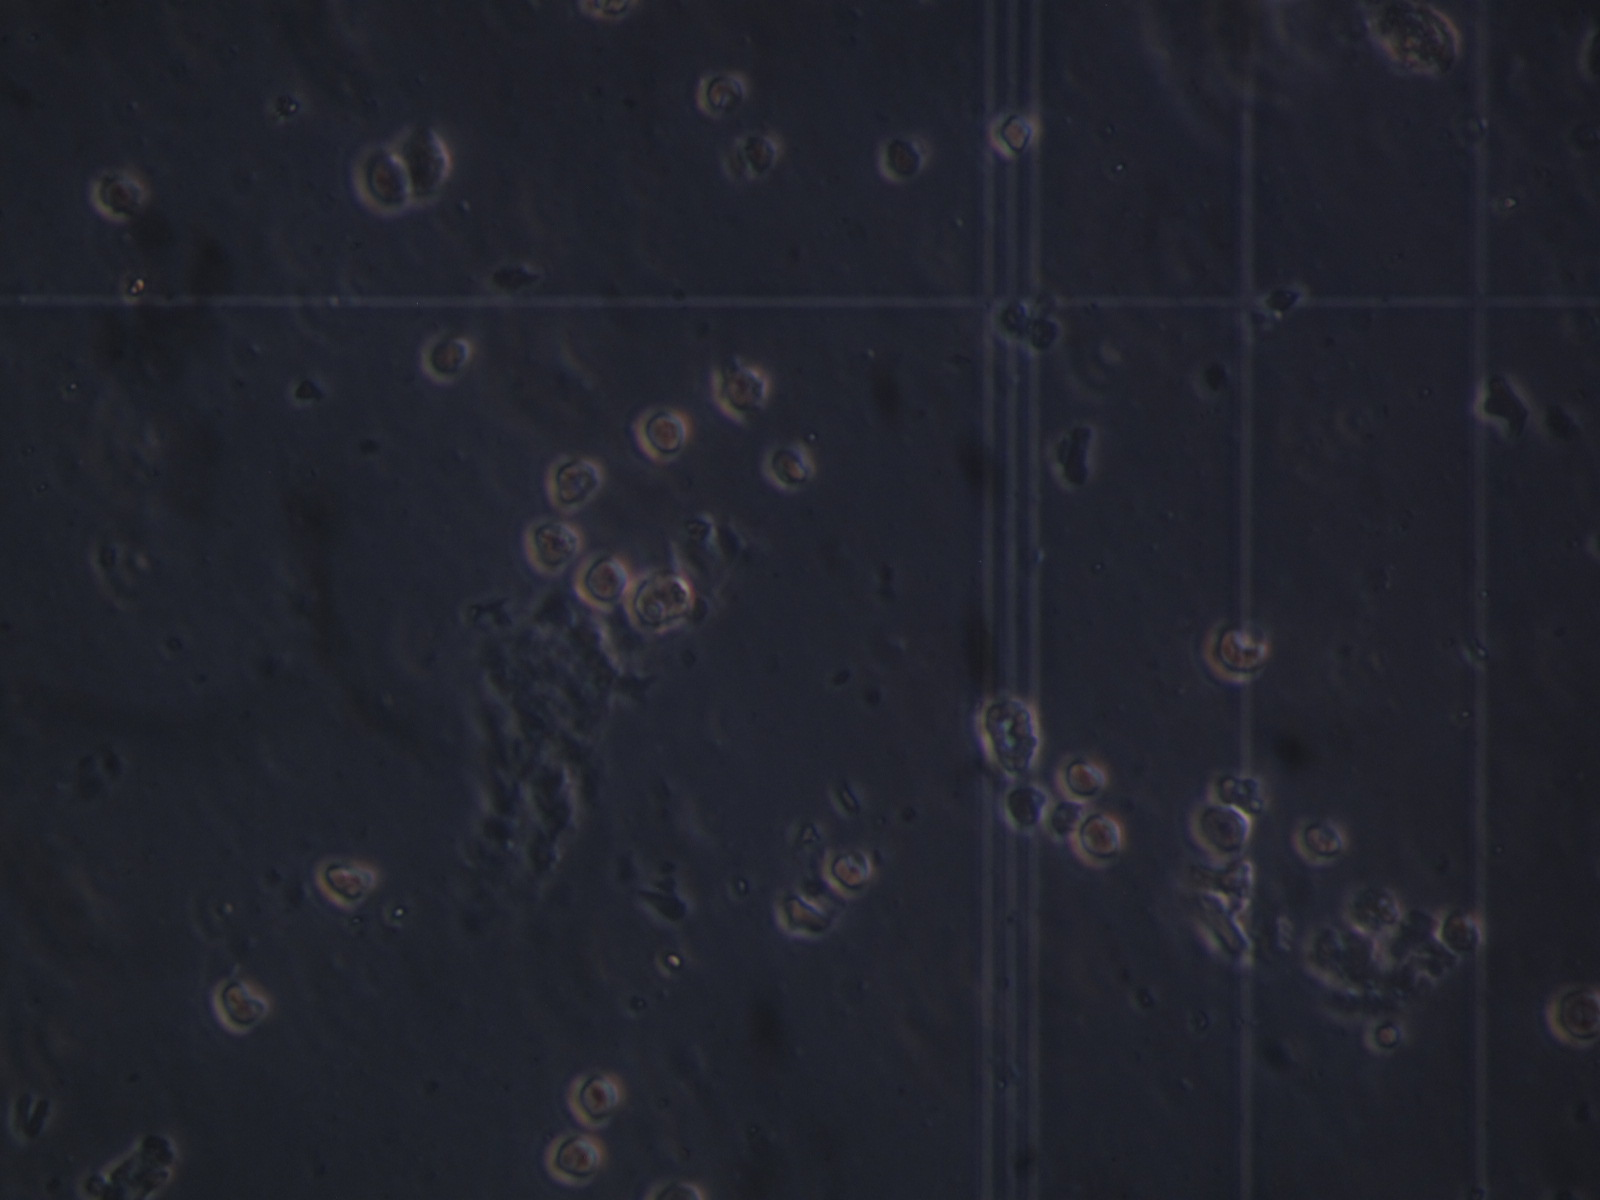hemo: (386, 124, 454, 205), (1199, 616, 1270, 684), (349, 142, 413, 216), (624, 570, 695, 634), (542, 1129, 609, 1187), (1188, 799, 1256, 856), (543, 454, 605, 516), (210, 977, 272, 1037), (524, 516, 583, 579), (1545, 983, 1600, 1049), (630, 405, 689, 465), (711, 363, 769, 425), (312, 857, 377, 913), (573, 548, 627, 614), (567, 1068, 625, 1128), (820, 845, 876, 901), (94, 169, 150, 224), (420, 332, 476, 386), (1070, 809, 1123, 867), (761, 440, 816, 494), (1289, 816, 1346, 867), (695, 71, 751, 121), (876, 134, 927, 185), (1004, 779, 1051, 836), (1054, 755, 1107, 804), (988, 108, 1036, 159), (1432, 908, 1483, 955), (1363, 1011, 1406, 1055), (1043, 800, 1082, 845)
